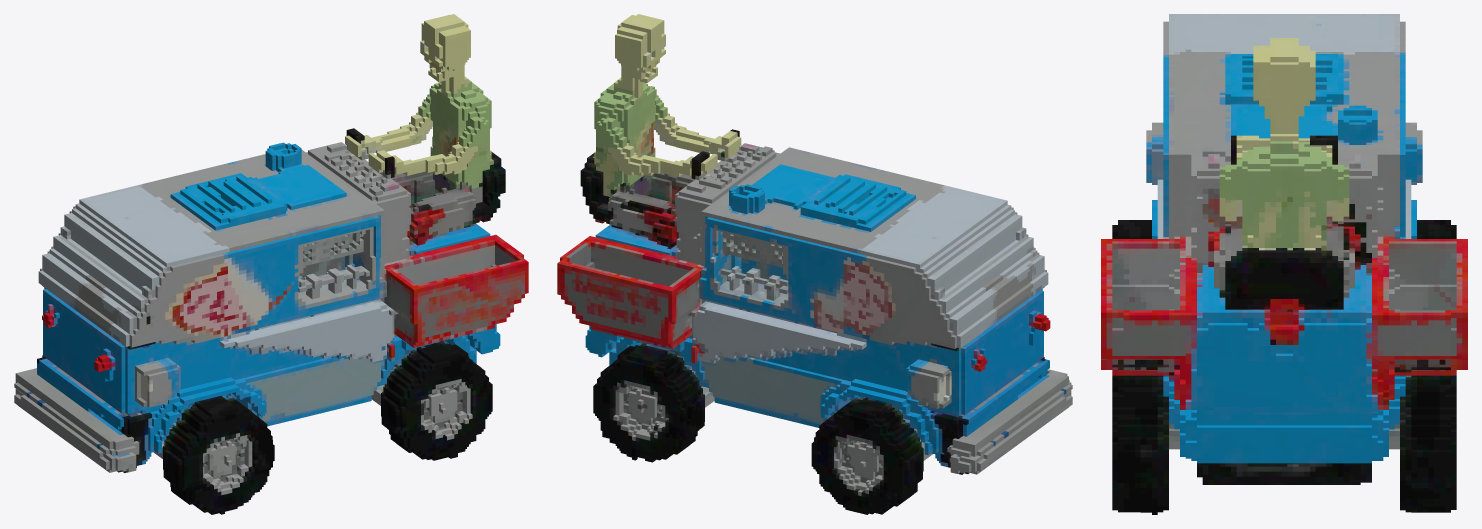
File: zamboni.glb
3 renders of one model, left to right at view 1: azimuth 30°, elevation 25°; view 2: azimuth 150°, elevation 25°; view 3: azimuth 270°, elevation 25°, orthographic. The views are drawn at different scales.
Visible parts, largest first — view 1: Voxelized; view 2: Voxelized; view 3: Voxelized.
Part boxes in pixels (bbox=[...]): Voxelized: bbox=[14, 14, 528, 514]; Voxelized: bbox=[557, 14, 1072, 514]; Voxelized: bbox=[1101, 14, 1467, 514].
Size of the model in its own units: 1.9 by 1.6 by 1.07.
